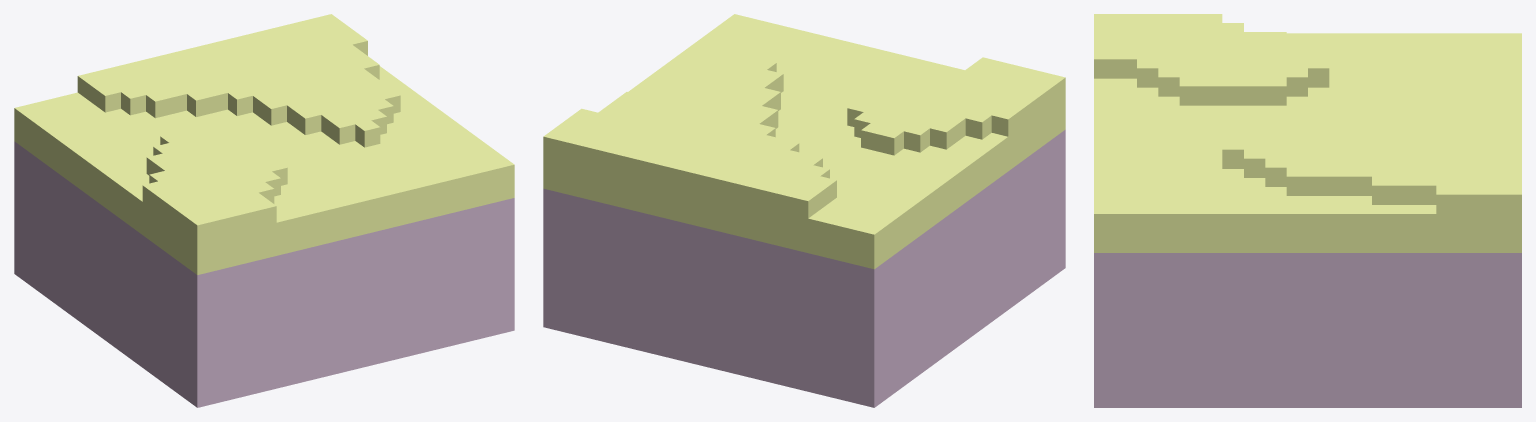
The model's file is GroundSand2.obj.
3 renders of one model, left to right at view 1: azimuth 30°, elevation 25°; view 2: azimuth 150°, elevation 25°; view 3: azimuth 270°, elevation 25°, orthographic. The views are drawn at different scales.
Size of the model in its own units: 2 by 1.1 by 2.
